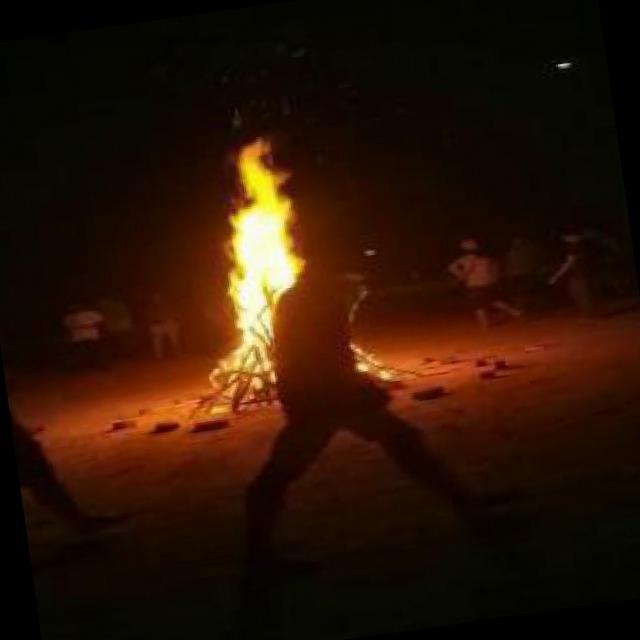fire: (196, 113, 364, 376)
